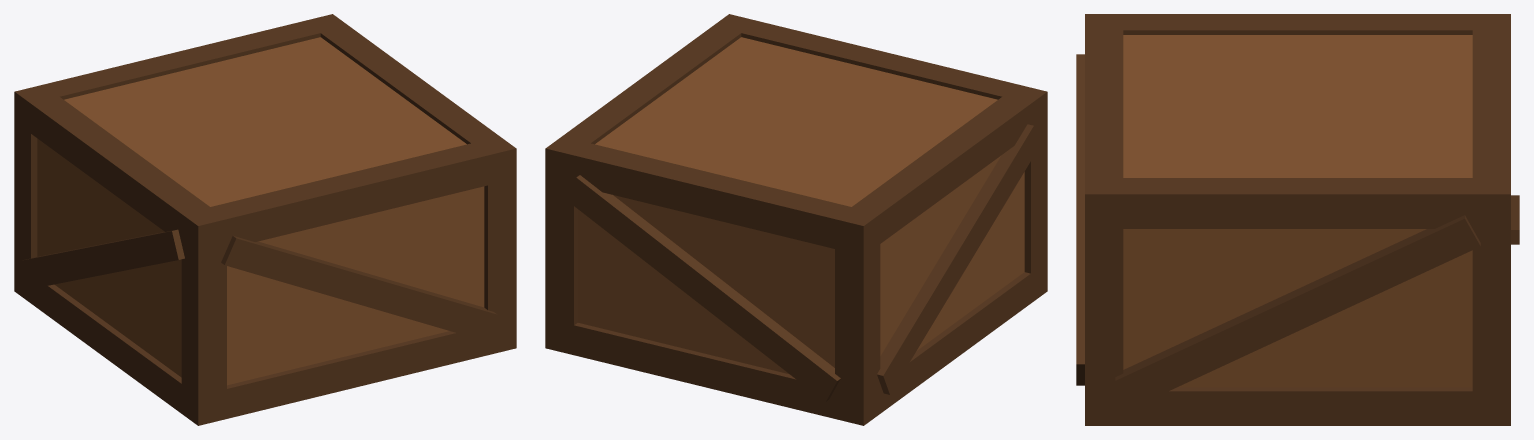
File: Nails_Crate.fbx
3 renders of one model, left to right at view 1: azimuth 30°, elevation 25°; view 2: azimuth 150°, elevation 25°; view 3: azimuth 270°, elevation 25°, orthographic. The views are drawn at different scales.
Visible parts, largest first — view 1: Nails_Crate; view 2: Nails_Crate; view 3: Nails_Crate.
Boxes of the visible parts, bbox=[...] form: Nails_Crate: bbox=[14, 14, 516, 425]; Nails_Crate: bbox=[545, 14, 1047, 425]; Nails_Crate: bbox=[1076, 14, 1519, 425].
Size of the model in its own units: 0.52 by 0.3 by 0.52.
